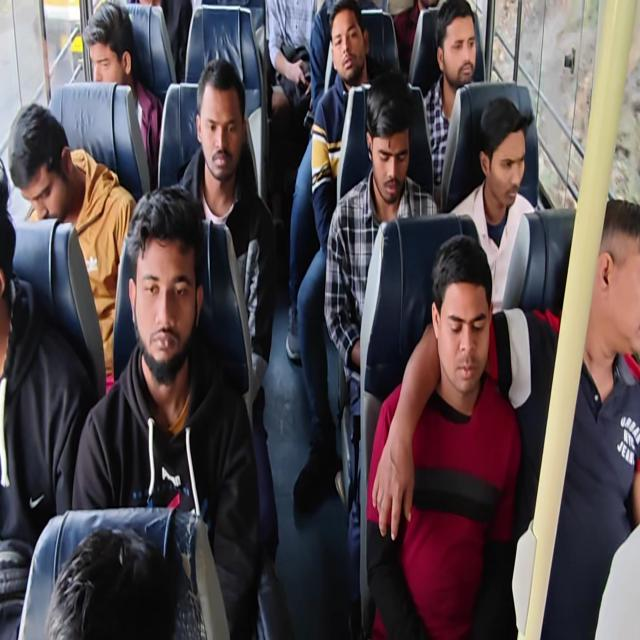person: (1, 0, 638, 638), (377, 197, 639, 638), (70, 184, 260, 638), (393, 95, 558, 542), (323, 70, 439, 632), (365, 233, 522, 638), (524, 197, 639, 638), (292, 0, 383, 511), (0, 158, 95, 637), (7, 102, 137, 393), (175, 57, 276, 401), (448, 95, 536, 315), (44, 525, 180, 639), (82, 1, 163, 188), (422, 0, 478, 197), (265, 0, 316, 112), (137, 0, 192, 82), (392, 0, 439, 77)
